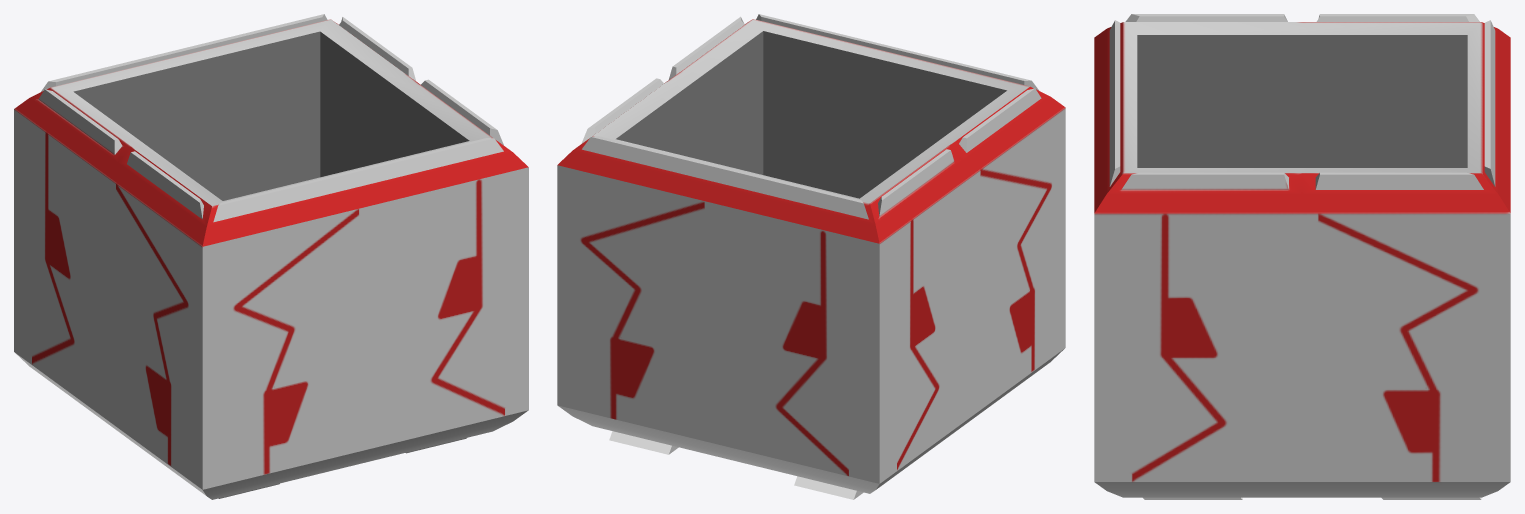
Rendered from Crate.fbx.
The picture shows the model from 3 angles, left to right: view 1: azimuth 30°, elevation 25°; view 2: azimuth 150°, elevation 25°; view 3: azimuth 270°, elevation 25°; orthographic projection. The views are drawn at different scales.
Visible parts, largest first — view 1: pCube1; view 2: pCube1; view 3: pCube1.
Boxes of the visible parts, <box> form: pCube1: <box>14,14,528,499</box>; pCube1: <box>557,14,1065,499</box>; pCube1: <box>1094,14,1510,499</box>.
Size of the model in its own units: 3.49 by 3.13 by 3.49.
